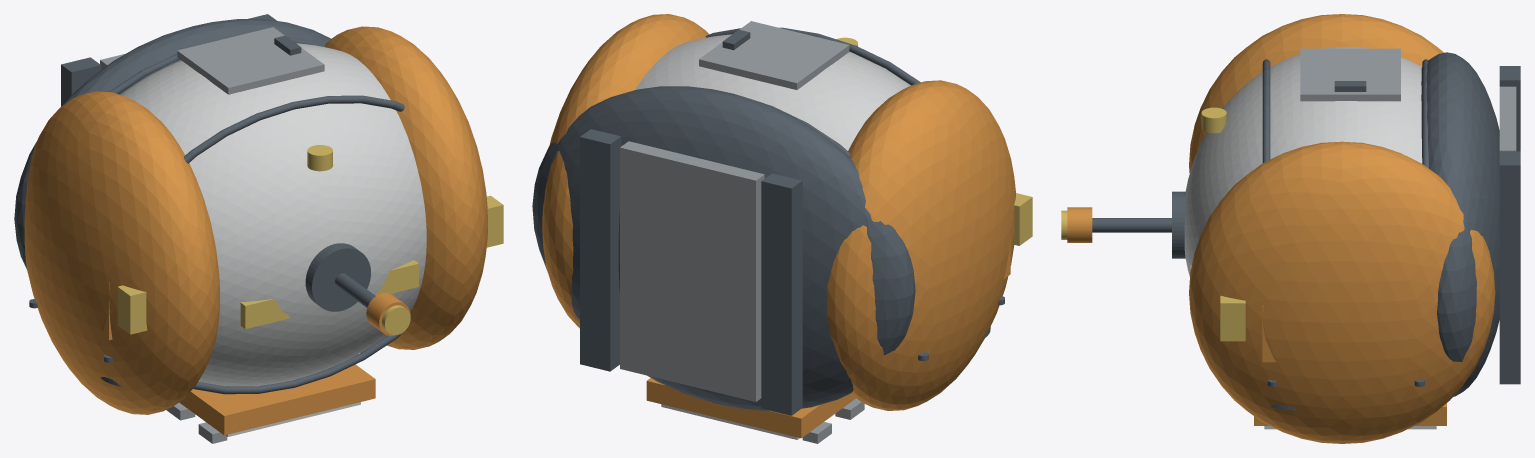
File: RESQ_POD_editable_3D_concept.glb
3 renders of one model, left to right at view 1: azimuth 30°, elevation 25°; view 2: azimuth 150°, elevation 25°; view 3: azimuth 270°, elevation 25°, orthographic. The views are drawn at different scales.
Visible parts, largest first — view 1: 01_OUTER_HULL_HDPE, 02_PORT_SIDE_ORANGE_ARMOUR, 03_STARBOARD_SIDE_ORANGE_ARMOUR, 08_HATCH_OUTER_FRAME, 04_LOWER_IMPACT_BUMPER, 23_REAR_SERVICE_PANEL, 25_HULL_SEAM_RING_2, 18_ANTENNA_BASE, 26_PORT_SIDE_MARKER, 05_LEFT_SKID_RAIL, 22_ROOF_LED_-0.35, 22_ROOF_LED_0.35 (+6 smaller); view 2: 02_PORT_SIDE_ORANGE_ARMOUR, 04_LOWER_IMPACT_BUMPER, 07_CENTRAL_BASE_PLATE, 03_STARBOARD_SIDE_ORANGE_ARMOUR, 01_OUTER_HULL_HDPE, 05_LEFT_SKID_RAIL, 06_RIGHT_SKID_RAIL, 23_REAR_SERVICE_PANEL, 08_HATCH_OUTER_FRAME, 25_HULL_SEAM_RING_2, 26_PORT_SIDE_MARKER; view 3: 03_STARBOARD_SIDE_ORANGE_ARMOUR, 01_OUTER_HULL_HDPE, 04_LOWER_IMPACT_BUMPER, 02_PORT_SIDE_ORANGE_ARMOUR, 06_RIGHT_SKID_RAIL, 23_REAR_SERVICE_PANEL, 19_ANTENNA_MAST, 07_CENTRAL_BASE_PLATE, 27_STARBOARD_SIDE_MARKER, 20_GNSS_406_BEACON, 18_ANTENNA_BASE, 25_HULL_SEAM_RING_2 (+3 smaller).
Boxes of the visible parts, x1=… form: 01_OUTER_HULL_HDPE: x1=121, y1=43, x2=426, y2=386; 02_PORT_SIDE_ORANGE_ARMOUR: x1=24, y1=91, x2=219, y2=414; 03_STARBOARD_SIDE_ORANGE_ARMOUR: x1=325, y1=26, x2=487, y2=349; 08_HATCH_OUTER_FRAME: x1=179, y1=364, x2=375, y2=435; 04_LOWER_IMPACT_BUMPER: x1=14, y1=19, x2=330, y2=269; 23_REAR_SERVICE_PANEL: x1=177, y1=27, x2=324, y2=94; 25_HULL_SEAM_RING_2: x1=184, y1=95, x2=404, y2=394; 18_ANTENNA_BASE: x1=305, y1=243, x2=370, y2=311; 26_PORT_SIDE_MARKER: x1=117, y1=285, x2=147, y2=334; 05_LEFT_SKID_RAIL: x1=61, y1=57, x2=101, y2=106; 22_ROOF_LED_-0.35: x1=240, y1=299, x2=289, y2=328; 22_ROOF_LED_0.35: x1=375, y1=260, x2=418, y2=295; 02_PORT_SIDE_ORANGE_ARMOUR: x1=826, y1=80, x2=1015, y2=410; 04_LOWER_IMPACT_BUMPER: x1=532, y1=86, x2=915, y2=410; 07_CENTRAL_BASE_PLATE: x1=620, y1=141, x2=764, y2=401; 03_STARBOARD_SIDE_ORANGE_ARMOUR: x1=542, y1=14, x2=709, y2=328; 01_OUTER_HULL_HDPE: x1=635, y1=34, x2=910, y2=150; 05_LEFT_SKID_RAIL: x1=761, y1=173, x2=802, y2=415; 06_RIGHT_SKID_RAIL: x1=580, y1=129, x2=621, y2=371; 23_REAR_SERVICE_PANEL: x1=699, y1=21, x2=849, y2=89; 08_HATCH_OUTER_FRAME: x1=646, y1=378, x2=855, y2=438; 25_HULL_SEAM_RING_2: x1=705, y1=27, x2=920, y2=85; 26_PORT_SIDE_MARKER: x1=1013, y1=193, x2=1032, y2=245; 03_STARBOARD_SIDE_ORANGE_ARMOUR: x1=1189, y1=141, x2=1495, y2=443; 01_OUTER_HULL_HDPE: x1=1184, y1=46, x2=1422, y2=276; 04_LOWER_IMPACT_BUMPER: x1=1421, y1=52, x2=1499, y2=396; 02_PORT_SIDE_ORANGE_ARMOUR: x1=1189, y1=14, x2=1443, y2=172; 06_RIGHT_SKID_RAIL: x1=1499, y1=151, x2=1520, y2=384; 23_REAR_SERVICE_PANEL: x1=1300, y1=48, x2=1400, y2=101; 19_ANTENNA_MAST: x1=1092, y1=218, x2=1171, y2=232; 07_CENTRAL_BASE_PLATE: x1=1499, y1=86, x2=1516, y2=151; 27_STARBOARD_SIDE_MARKER: x1=1220, y1=295, x2=1245, y2=341; 20_GNSS_406_BEACON: x1=1067, y1=207, x2=1092, y2=242; 18_ANTENNA_BASE: x1=1172, y1=191, x2=1185, y2=258; 25_HULL_SEAM_RING_2: x1=1262, y1=59, x2=1270, y2=162.
Bounding box in the file's own units: 2.12 × 1.8 × 2.19.
